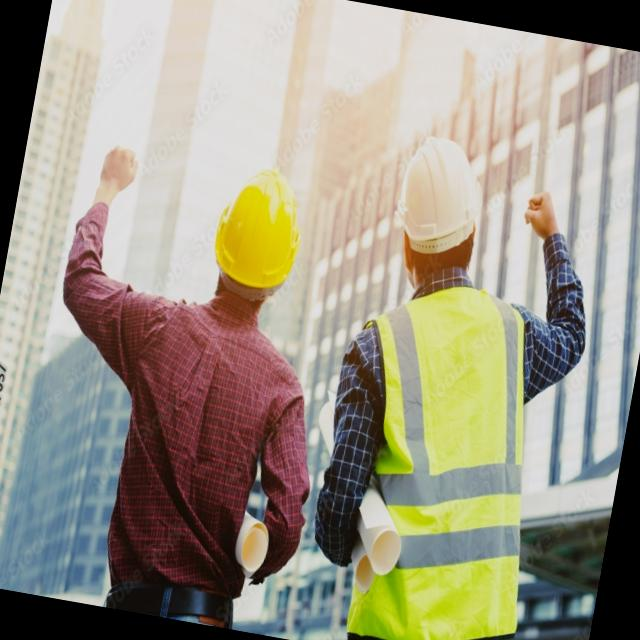helmet: (195, 137, 332, 300), (376, 124, 500, 276)
no-vest: (101, 294, 294, 594)
vest: (336, 276, 550, 636)
